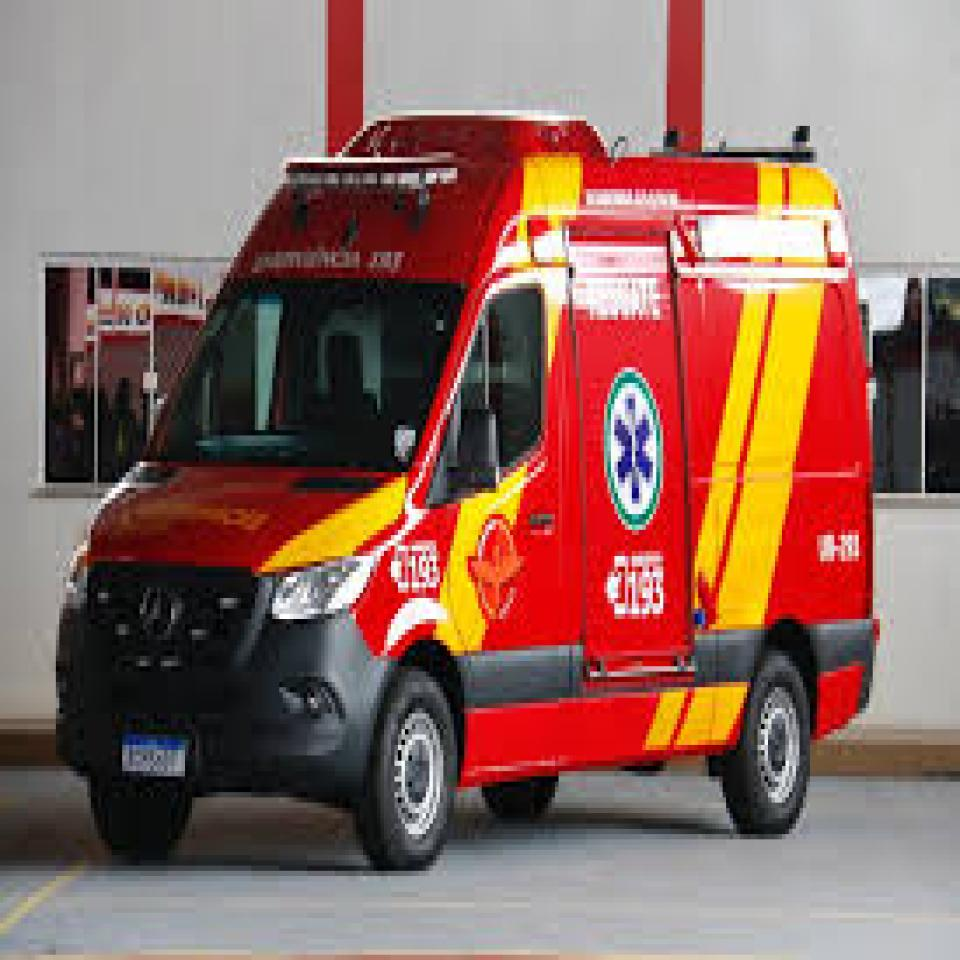viatura: (54, 113, 886, 876)
